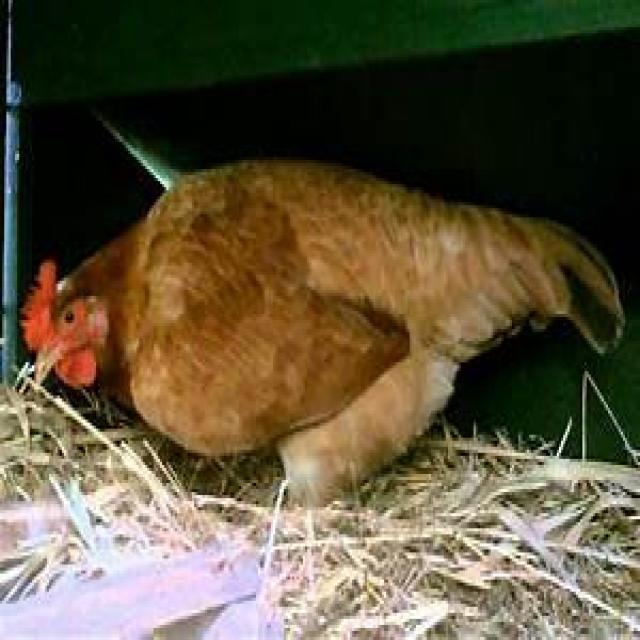hen: (25, 159, 624, 503)
